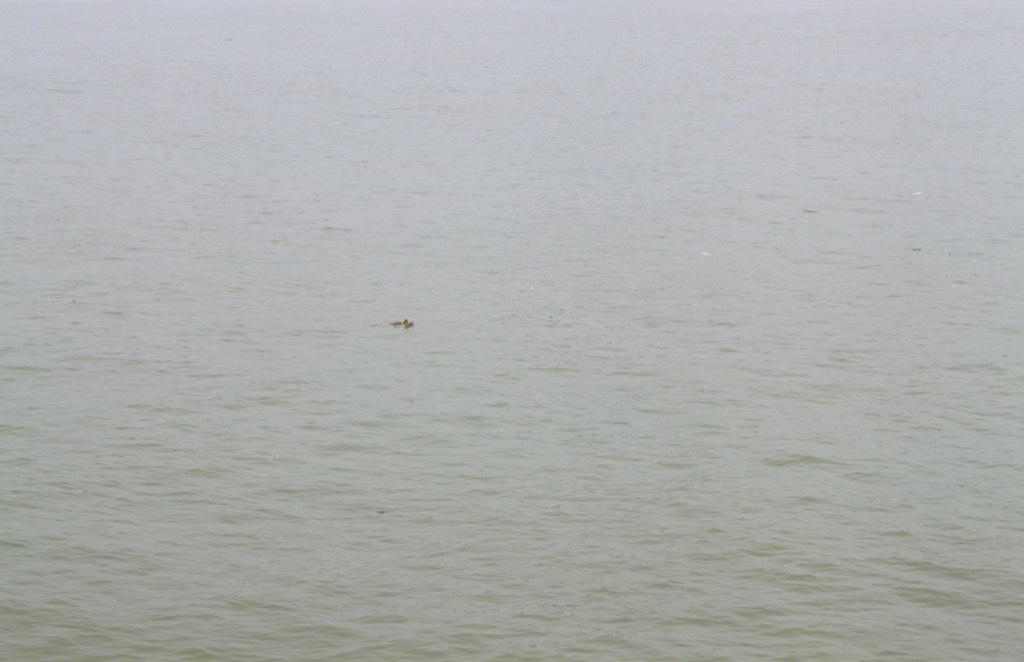organic: (369, 312, 423, 338), (368, 503, 409, 523)
plastic: (697, 247, 718, 262), (254, 469, 277, 481), (910, 187, 928, 198)
